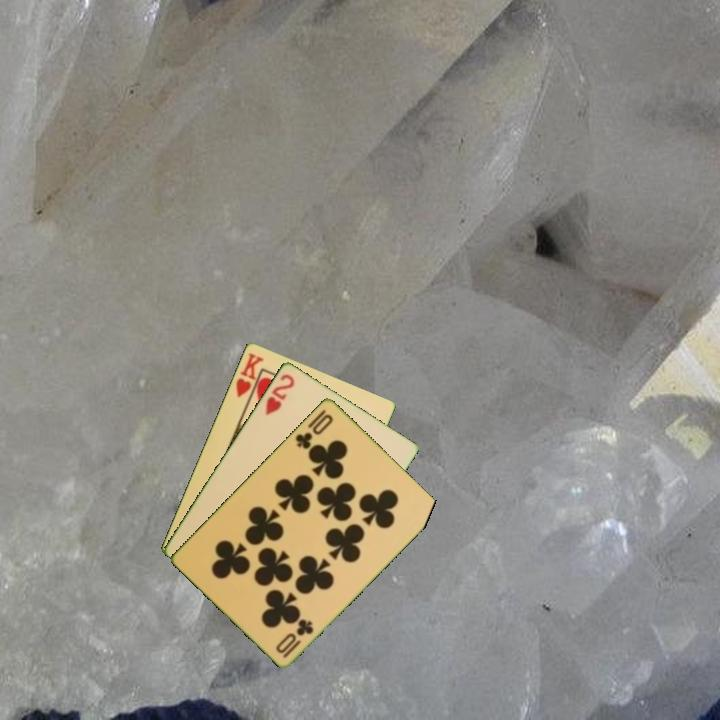10c: (272, 615, 316, 660), (292, 410, 336, 452)
2h: (262, 370, 297, 418)
Kh: (232, 349, 266, 406)
